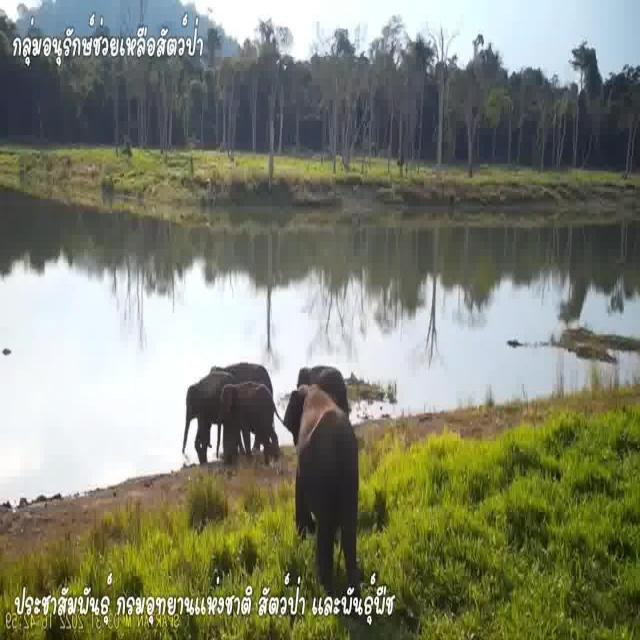Elephant: (292, 388, 366, 560), (172, 367, 236, 453), (214, 383, 279, 461)
